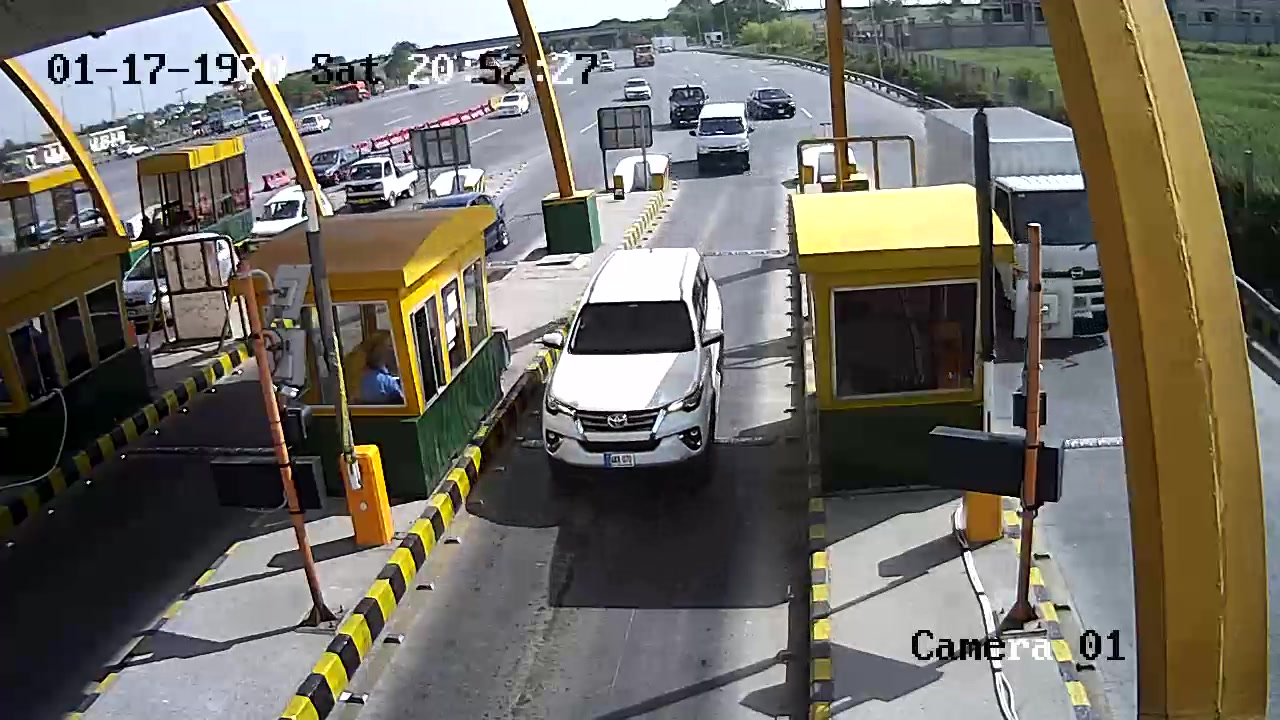F1: (539, 238, 734, 481)
